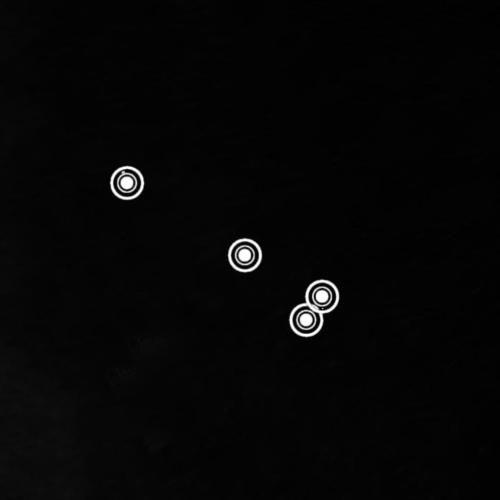sagitta: (95, 151, 343, 349)
